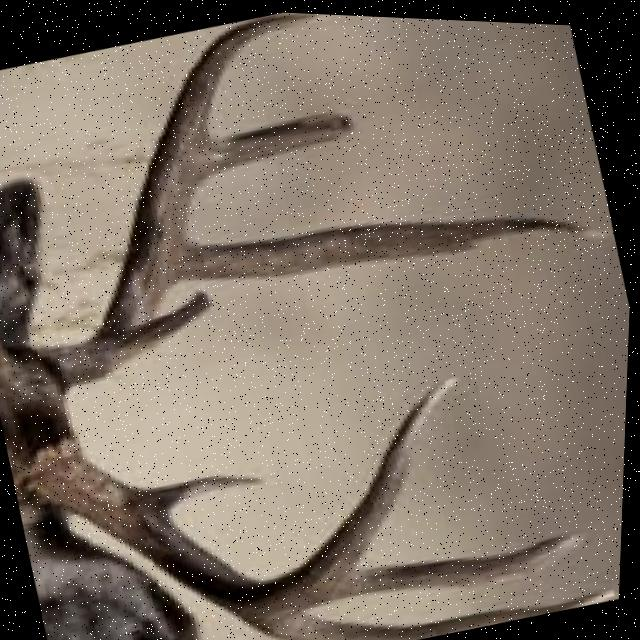L-F: (40, 10, 319, 385)
L-G1: (113, 289, 213, 368)
L-G2: (171, 209, 588, 285)
L-G3: (207, 110, 355, 176)
R-F: (35, 372, 461, 623)
R-G1: (141, 473, 265, 511)
R-G2: (255, 583, 620, 640)
R-G3: (327, 527, 585, 601)
